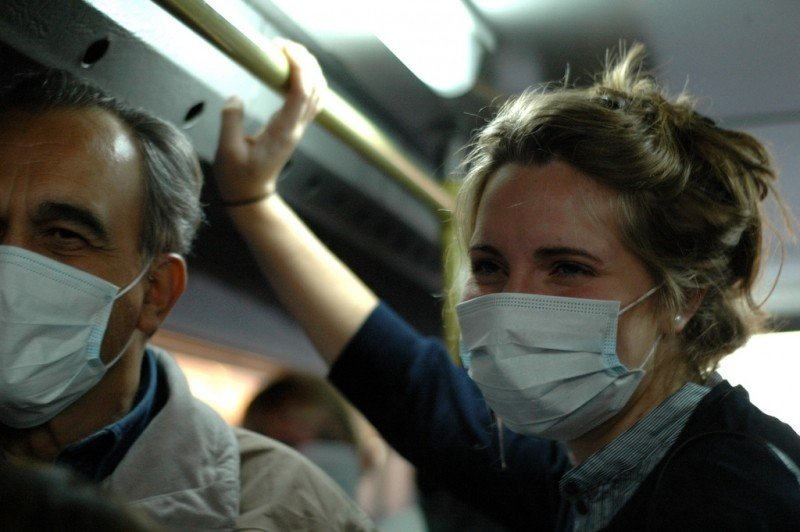mask: (446, 298, 654, 434)
